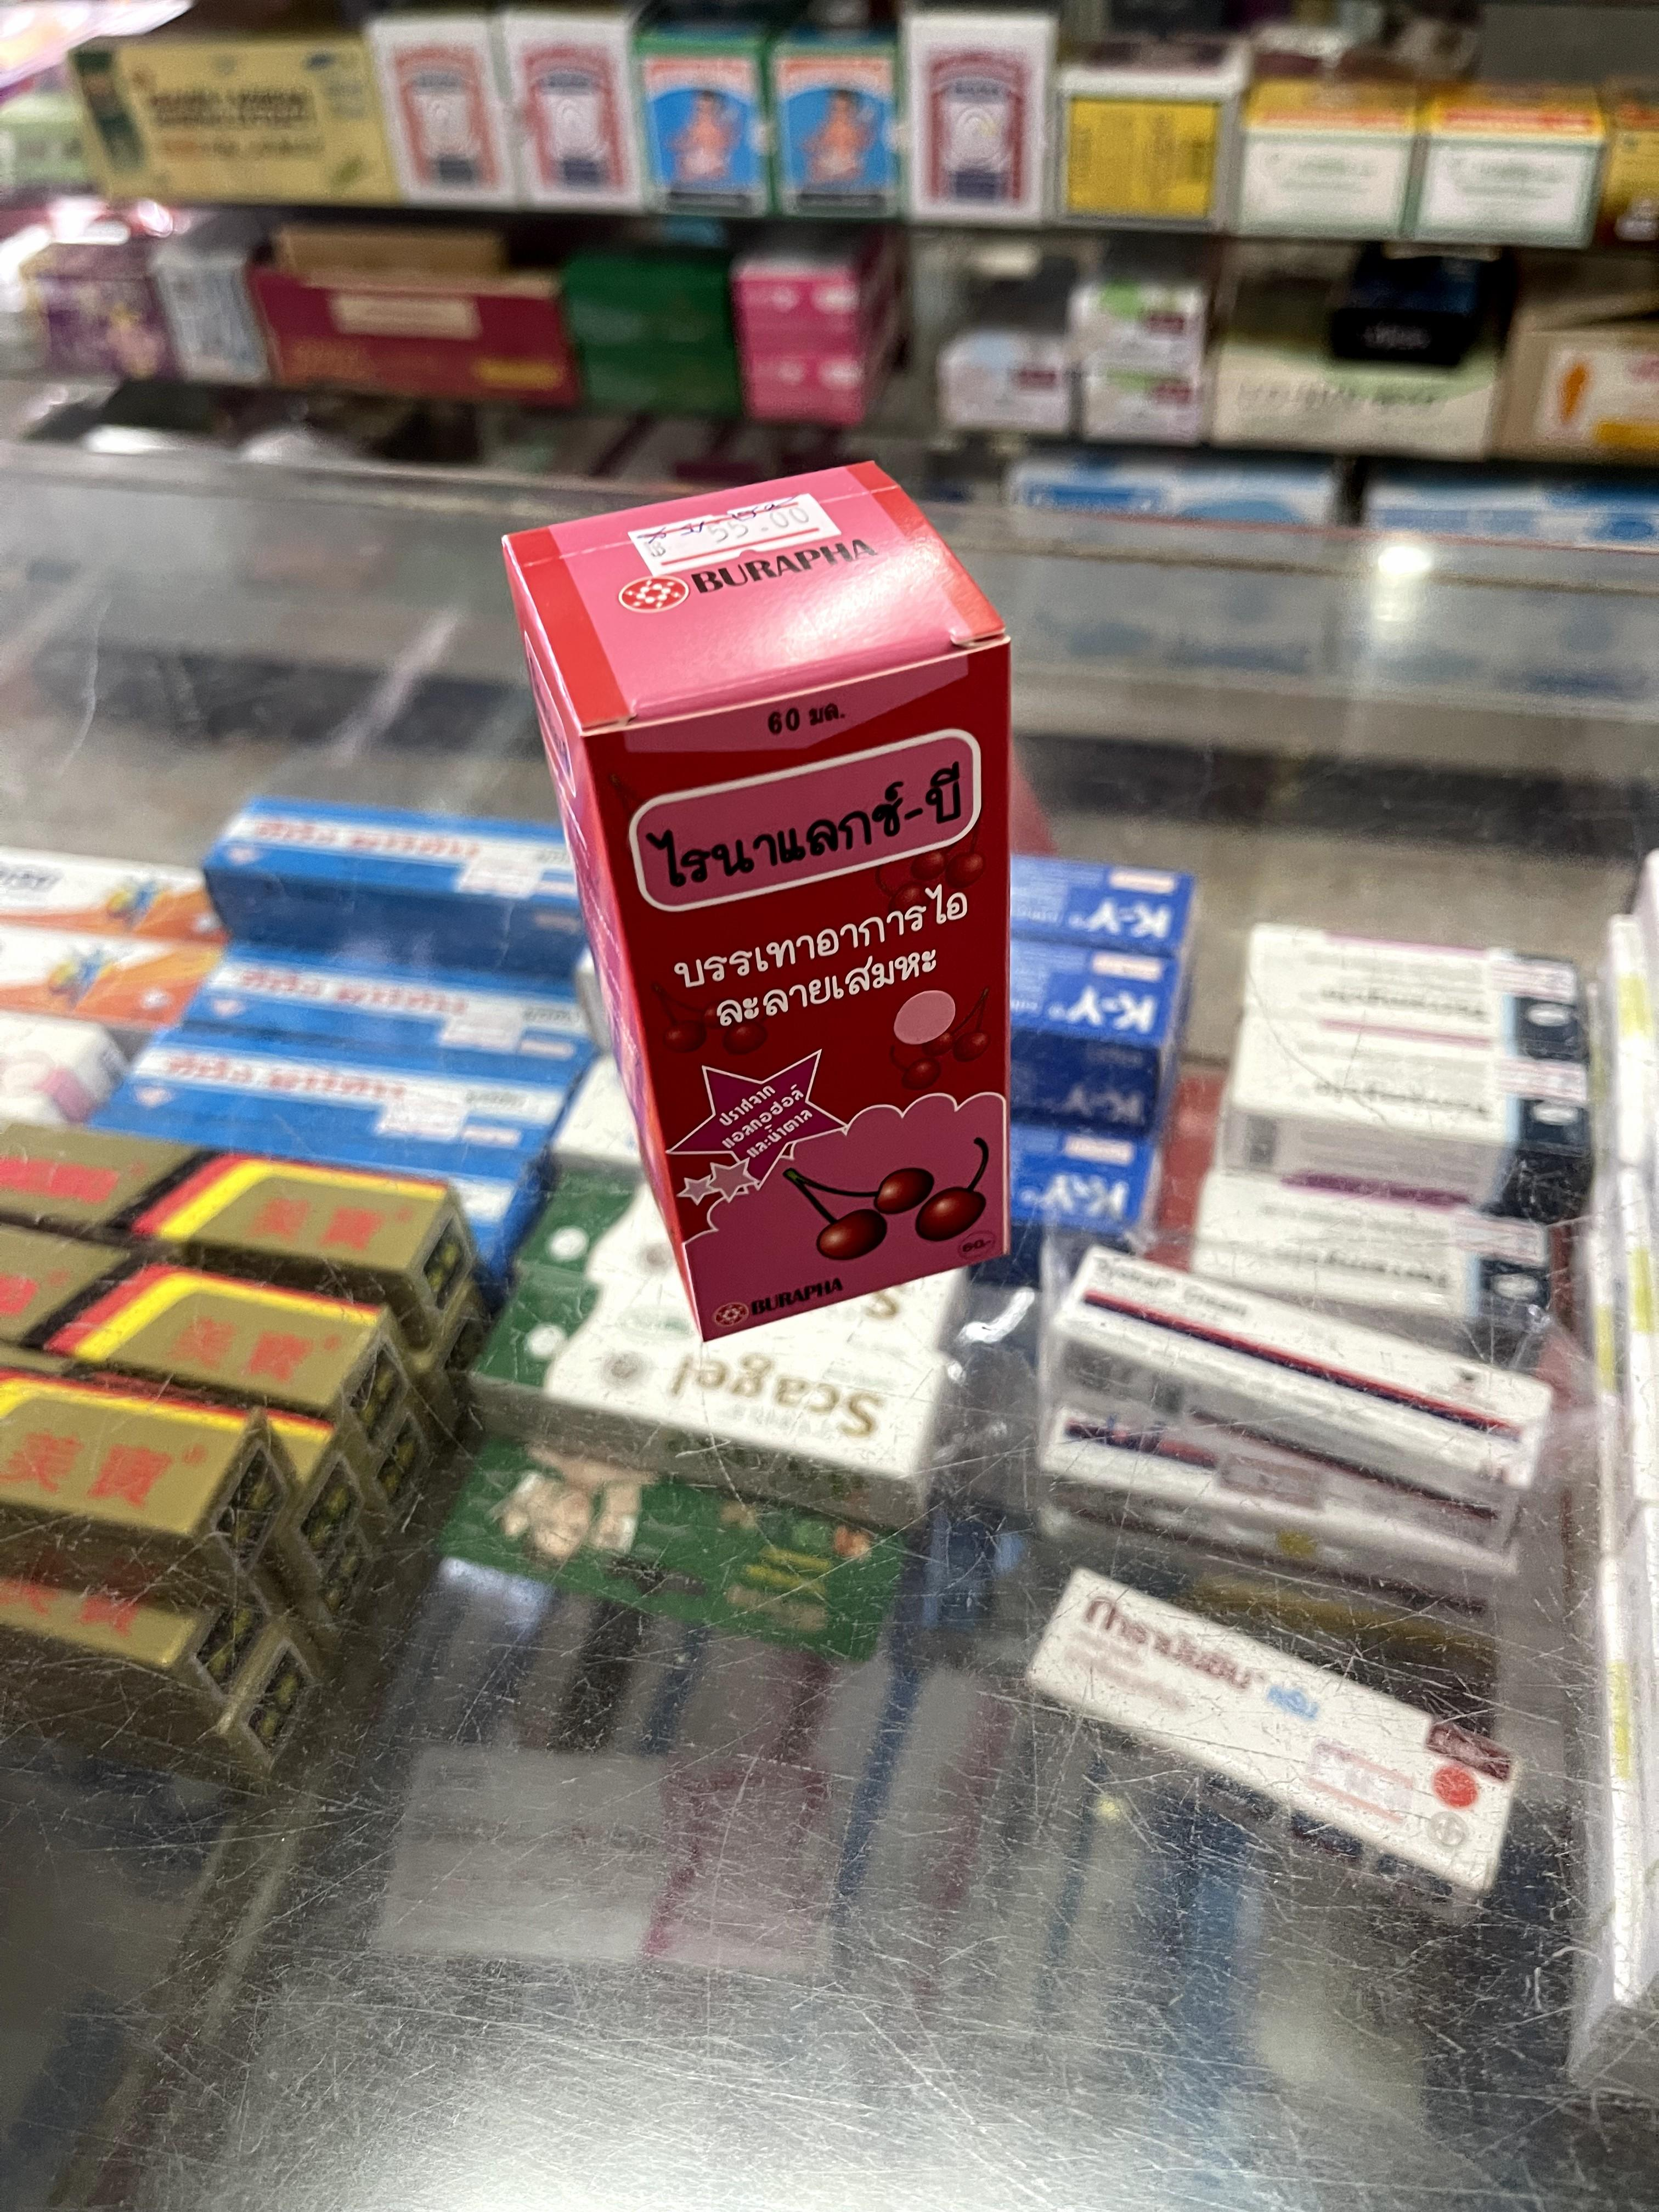Rhinalax-B: (507, 462, 1009, 1332)
